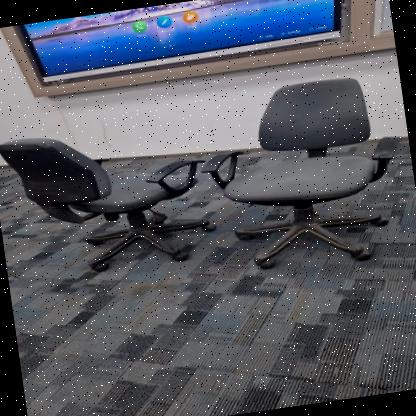chair: (194, 61, 416, 285), (0, 103, 225, 294)
